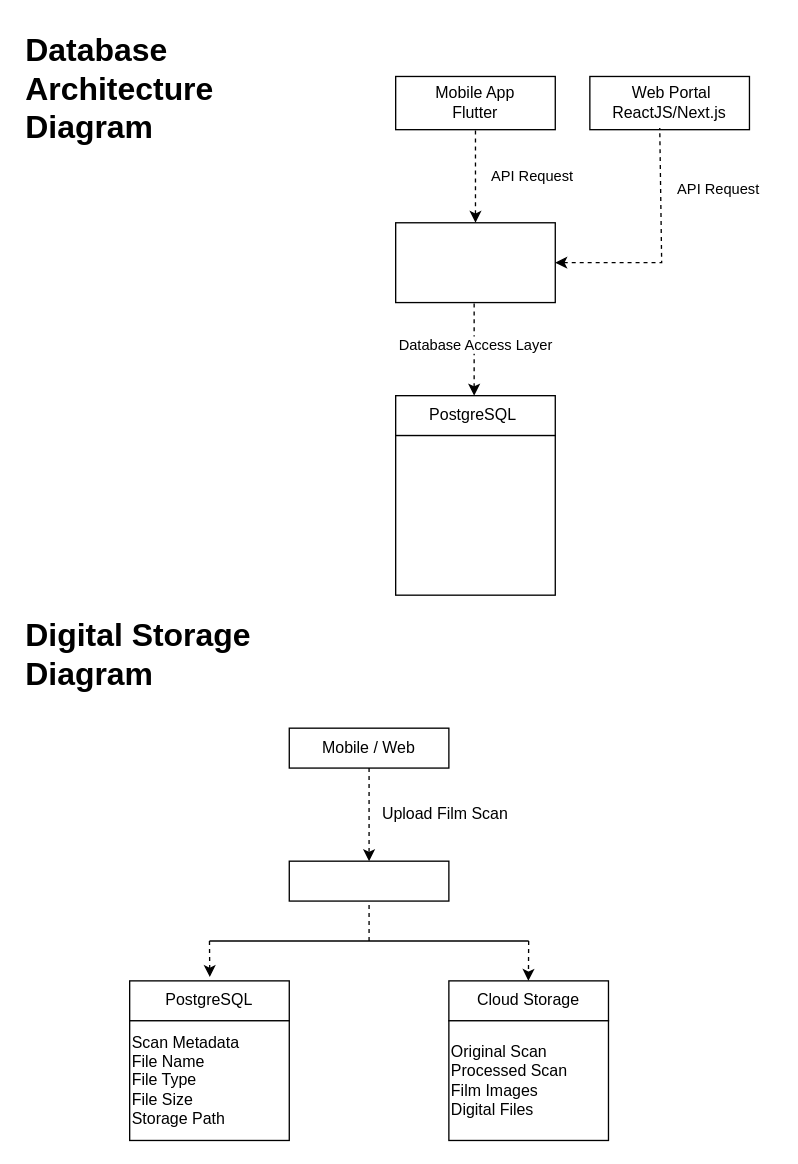
This 798x1164 diagram has some shape labels left out. The box of each missing label's shape, as (x1, y1, x2, y2) in pixels:
Backend API: (288, 860, 449, 901)
Backend API ASP.NET Core API: (394, 221, 555, 303)
User Film Film Lab Service Order Review Community Film Scan Metadata: (394, 434, 555, 595)
